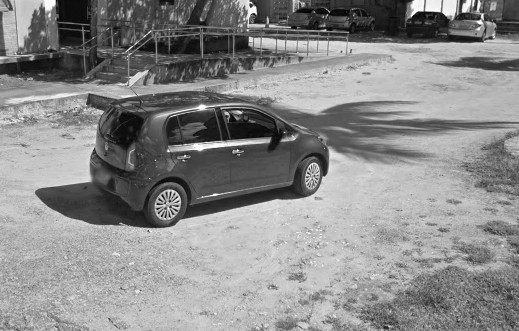car: (88, 84, 331, 228)
